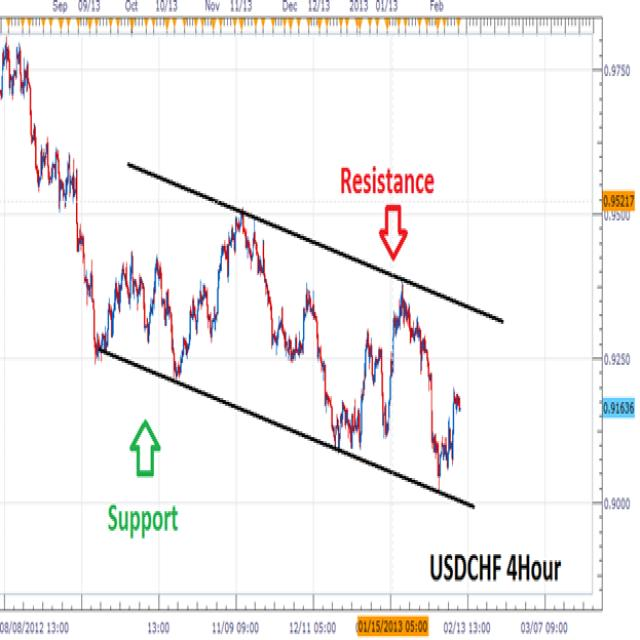Channel-down: (17, 142, 498, 502)
